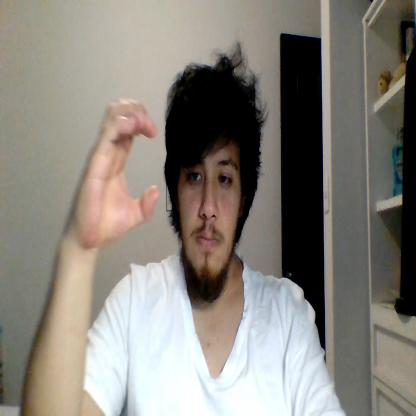C: (73, 99, 161, 243)
